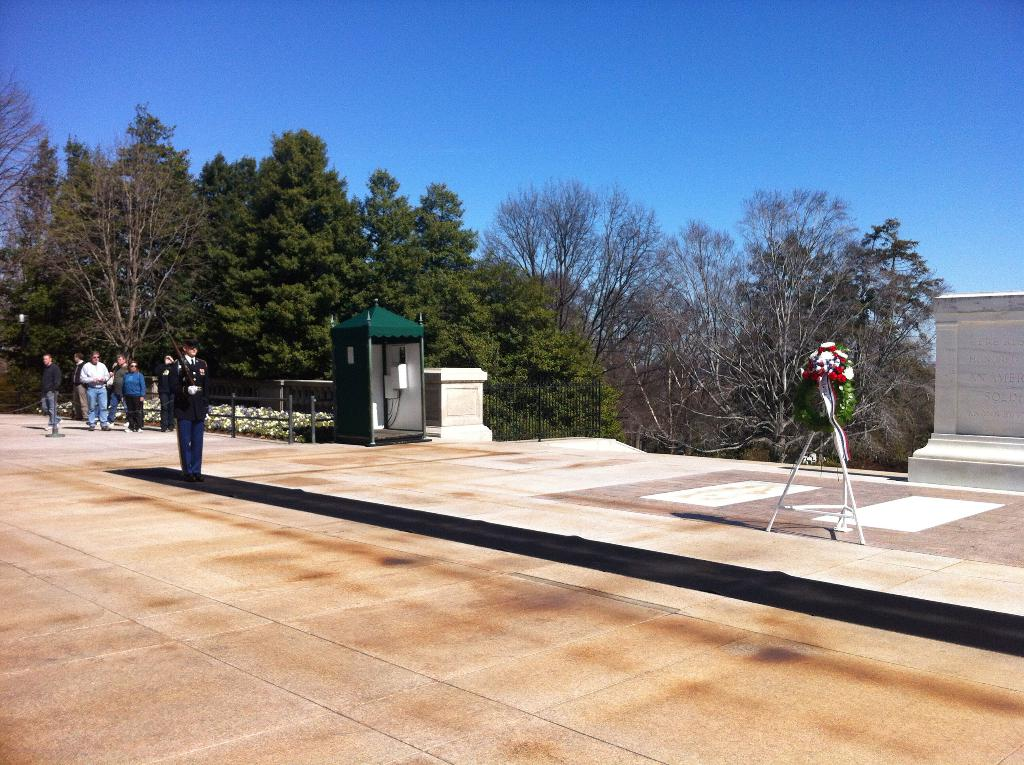Tree: (221, 128, 957, 470), (35, 113, 220, 409), (0, 62, 49, 414)
